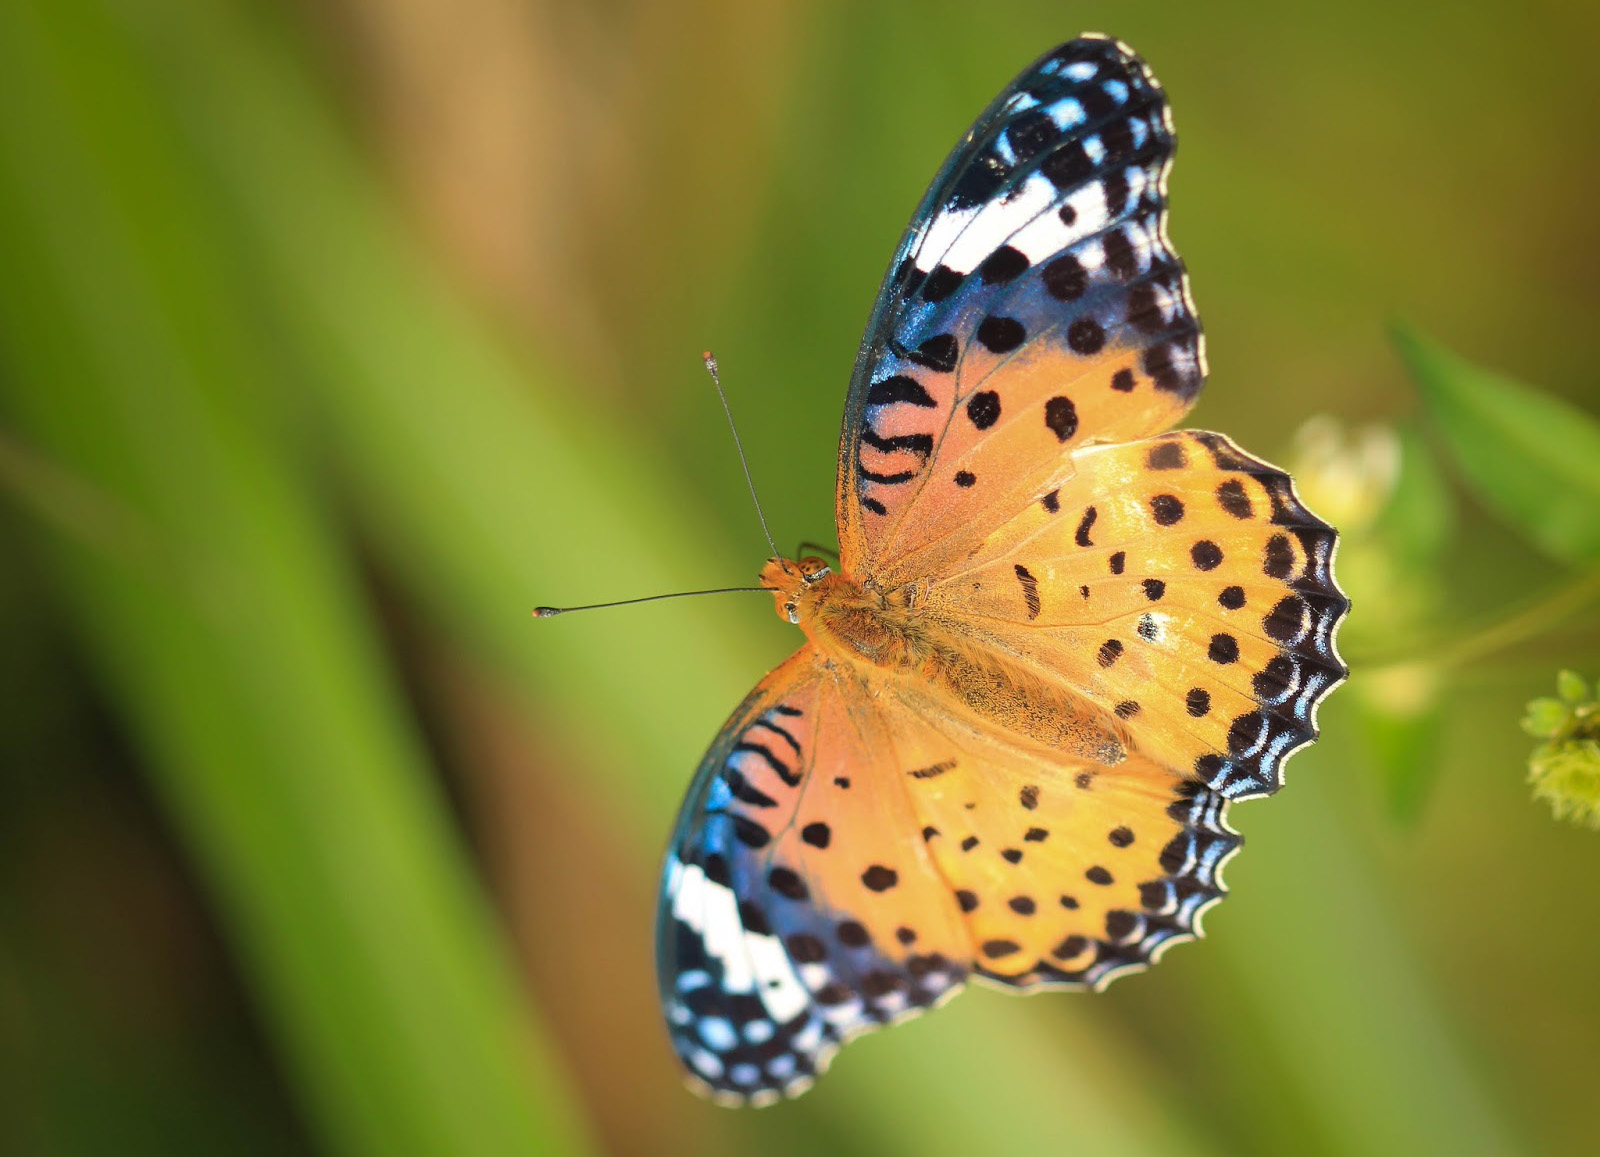Argyreus hyperbius: (508, 42, 1353, 1125)
butterfly: (506, 36, 1352, 1118)
